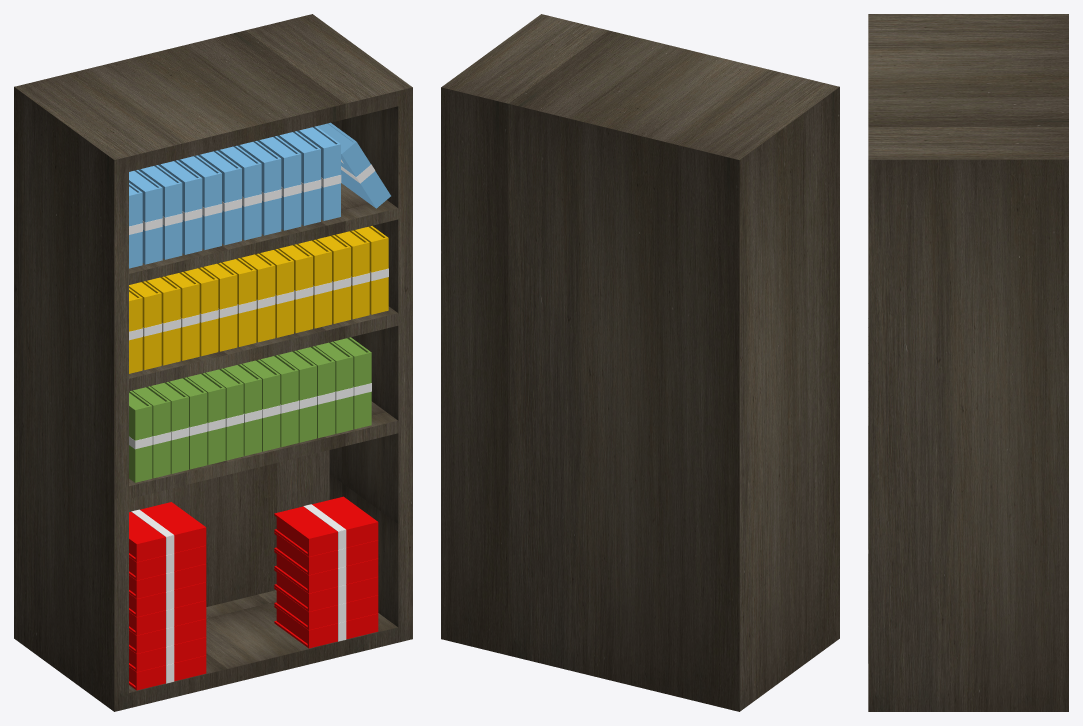
File: book_cabinet.glb
The picture shows the model from 3 angles, left to right: view 1: azimuth 30°, elevation 25°; view 2: azimuth 150°, elevation 25°; view 3: azimuth 270°, elevation 25°; orthographic projection.
Parts seen in each view (by area): view 1: Object_533, Object_11, Object_69, Object_149, Object_229, Object_239, Object_179, Object_189, Object_29, Object_531, Object_59, Object_39 (+42 smaller); view 2: Object_533; view 3: Object_533.
Boxes of the visible parts, <box> form: Object_533: <box>14,14,412,711</box>; Object_11: <box>274,496,378,556</box>; Object_69: <box>129,502,206,562</box>; Object_149: <box>316,122,390,208</box>; Object_229: <box>158,160,202,254</box>; Object_239: <box>138,165,182,259</box>; Object_179: <box>257,136,301,230</box>; Object_189: <box>237,141,281,235</box>; Object_29: <box>274,550,378,593</box>; Object_531: <box>129,391,152,482</box>; Object_59: <box>274,605,378,648</box>; Object_39: <box>274,568,378,611</box>; Object_533: <box>441,14,839,711</box>; Object_533: <box>868,14,1068,711</box>.
Size of the model in its own units: 44.18 by 78.05 by 25.74.
Materials: 7 (1 with a texture image).
